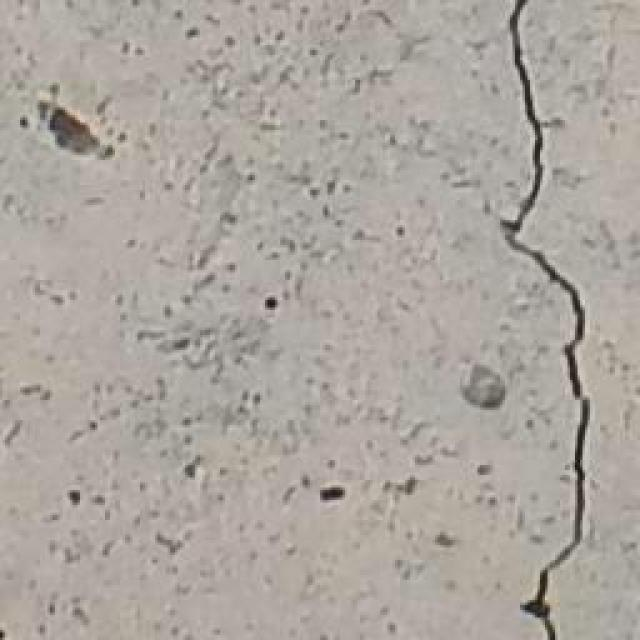concrete-crack: (500, 0, 590, 640)
